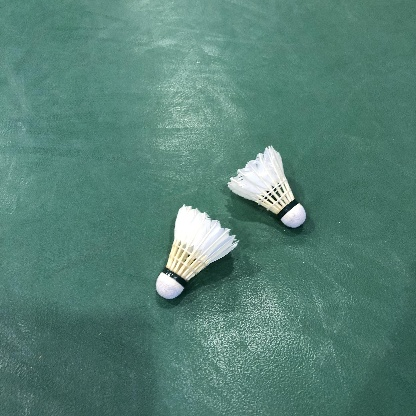ball_single: (156, 204, 240, 299), (227, 145, 306, 228)
